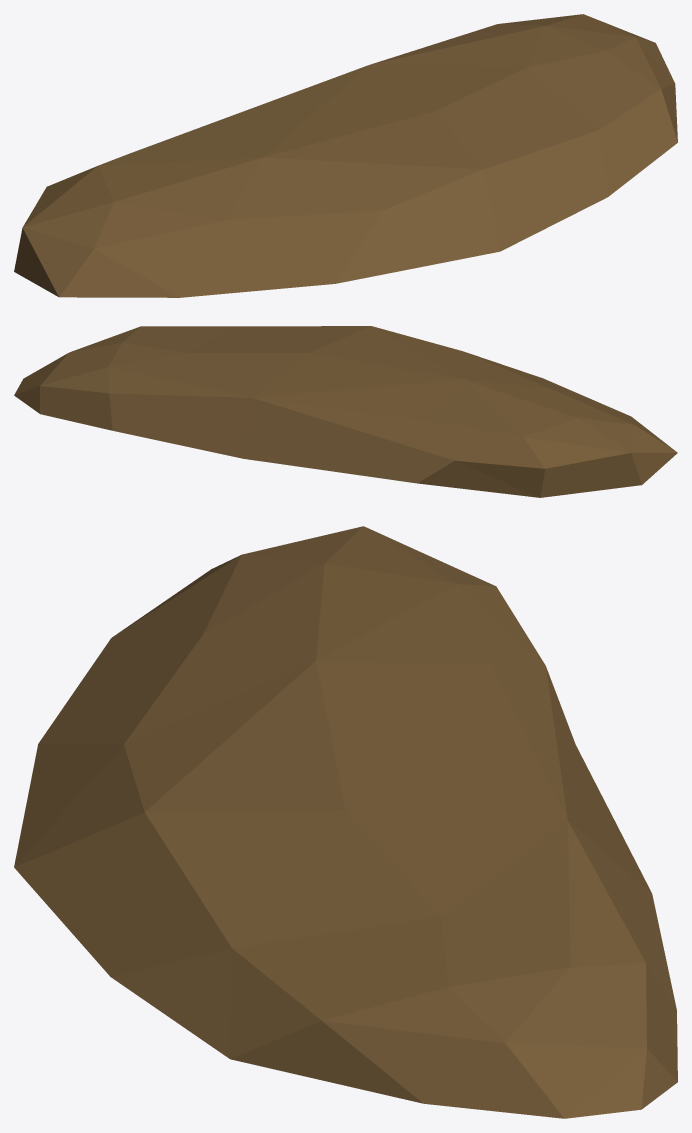
Rendered from EA03_Env_RoadIslandMud_01b.glb.
3 renders of one model, top to bottom at view 1: azimuth 30°, elevation 25°; view 2: azimuth 150°, elevation 25°; view 3: azimuth 270°, elevation 25°, orthographic. The views are drawn at different scales.
Visible parts, largest first — view 1: EA03_Env_RoadIslandMud_01b; view 2: EA03_Env_RoadIslandMud_01b; view 3: EA03_Env_RoadIslandMud_01b.
Boxes of the visible parts, x1,y1,x2,y2 form: EA03_Env_RoadIslandMud_01b: (14,14,677,297); EA03_Env_RoadIslandMud_01b: (14,326,677,497); EA03_Env_RoadIslandMud_01b: (14,526,677,1118).
Size of the model in its own units: 3.88 by 0.3494 by 1.97.
1 material, 1 textured.
